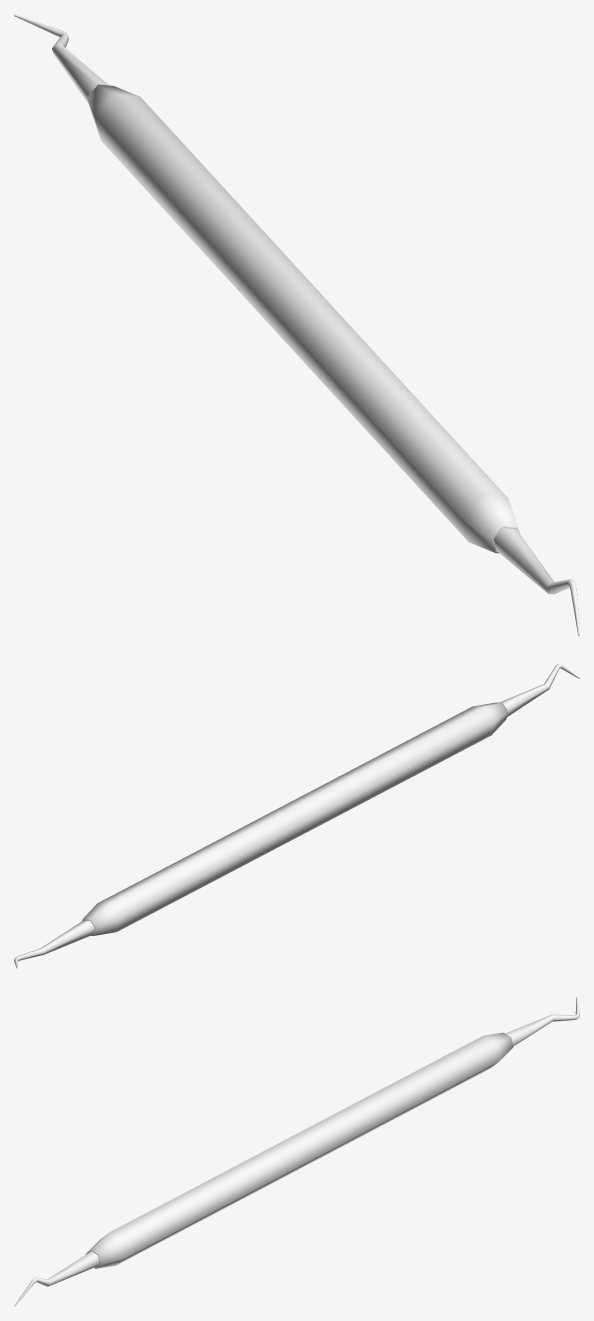
The model's file is Surgery_Equipmet1.fbx.
3 views of the same model, one above another, from view 1: azimuth 30°, elevation 25°; view 2: azimuth 150°, elevation 25°; view 3: azimuth 330°, elevation 25° (orthographic). The views are drawn at different scales.
Parts seen in each view (by area): view 1: Surgery_Equipmet1; view 2: Surgery_Equipmet1; view 3: Surgery_Equipmet1.
Boxes of the visible parts, x1=… form: Surgery_Equipmet1: x1=14, y1=14, x2=579, y2=635; Surgery_Equipmet1: x1=14, y1=664, x2=579, y2=968; Surgery_Equipmet1: x1=14, y1=997, x2=579, y2=1306.
Size of the model in its own units: 2.91 by 0.6489 by 17.1.
